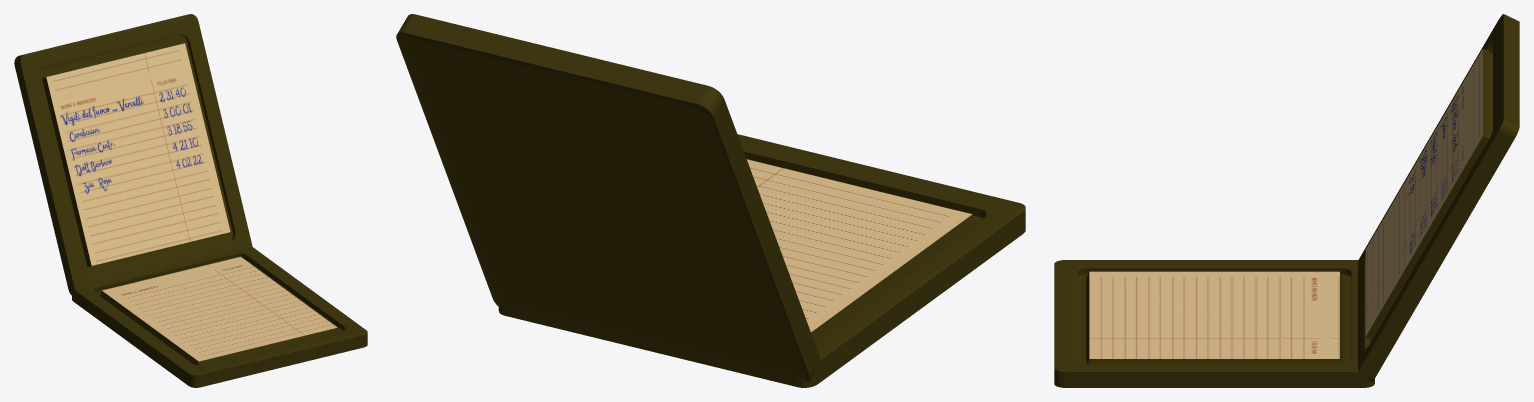
Rendered from rubrica-past.glb.
3 renders of one model, left to right at view 1: azimuth 30°, elevation 25°; view 2: azimuth 150°, elevation 25°; view 3: azimuth 270°, elevation 25°, orthographic. The views are drawn at different scales.
Visible parts, largest first — view 1: rubrica-past; view 2: rubrica-past; view 3: rubrica-past.
Boxes of the visible parts, left/top/right/bottom form: rubrica-past: left=14, top=14, right=367, bottom=387; rubrica-past: left=396, top=14, right=1025, bottom=387; rubrica-past: left=1054, top=14, right=1519, bottom=387.
Bounding box in the file's own units: 1.27 × 1.41 × 2.24.
3 materials, 2 textured.
